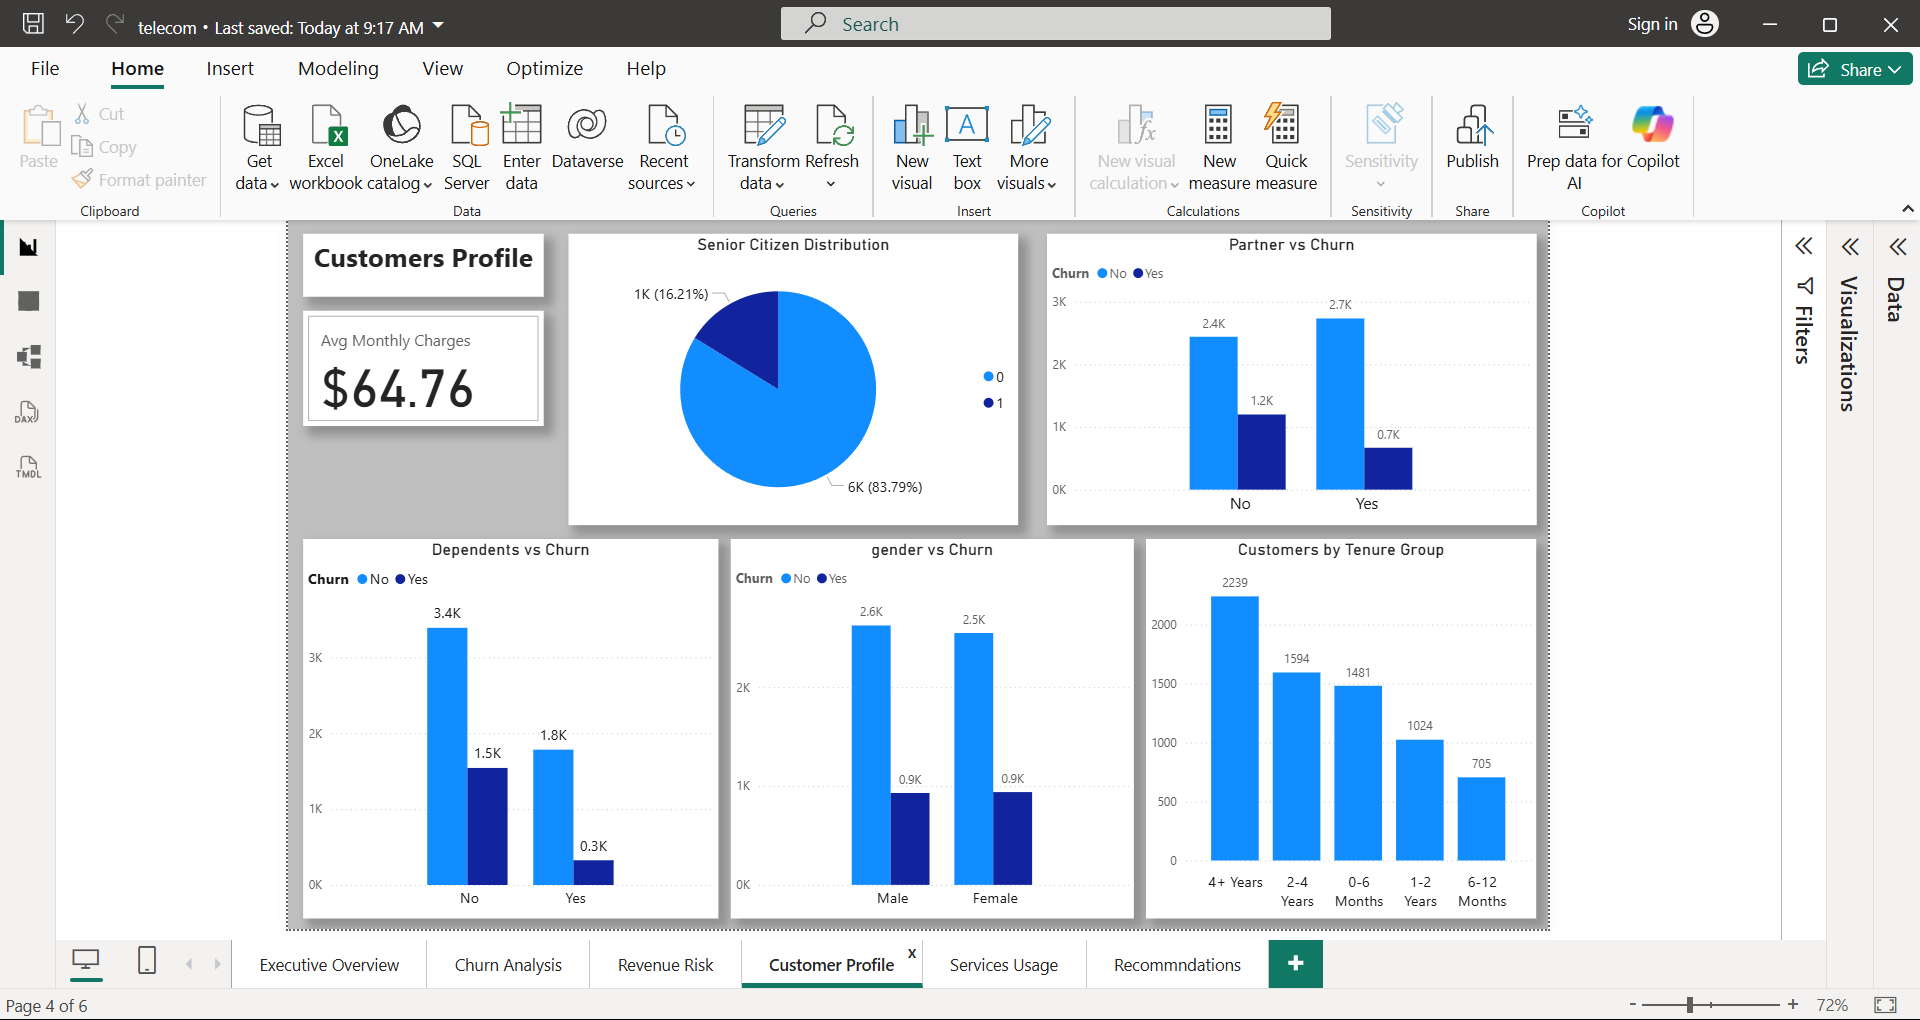

What the dashboard file says about the page in this screenshot:
{"tool":"powerbi","page":{"name":"Customer Profile","canvas":[1280,720],"ordinal":3},"visuals":[{"type":"pieChart","title":" Senior Citizen Distribution","fields":{"Category":["Telco-Customer-Churn.SeniorCitizen"],"Y":["Measure_table.Total Customers"]},"box":[284.9,14,456.7,296.1],"z":0},{"type":"clusteredColumnChart","title":" Dependents vs Churn","fields":{"Category":["Telco-Customer-Churn.Dependents"],"Series":["Telco-Customer-Churn.Churn"],"Y":["Measure_table.Total Customers"]},"box":[15.4,324,421.8,385.5],"z":1000},{"type":"clusteredColumnChart","title":" Partner vs Churn","fields":{"Category":["Telco-Customer-Churn.Partner"],"Series":["Telco-Customer-Churn.Churn"],"Y":["Measure_table.Total Customers"]},"box":[770.9,14,497.2,296.1],"z":2000},{"type":"clusteredColumnChart","title":" gender vs Churn","fields":{"Category":["Telco-Customer-Churn.gender"],"Series":["Telco-Customer-Churn.Churn"],"Y":["Measure_table.Total Customers"]},"box":[449.7,324,409.2,385.5],"z":3000},{"type":"textbox","box":[15.4,14,244.4,64.2],"z":4000},{"type":"cardVisual","fields":{"Data":["Measure_table.Avg Monthly Charges"]},"box":[15.4,92.2,244.4,117.3],"z":5000},{"type":"clusteredColumnChart","title":" Customers by Tenure Group","fields":{"Category":["Telco-Customer-Churn.Tenure Group"],"Y":["Measure_table.Total Customers"]},"box":[871.5,324,396.6,385.5],"z":6000}]}

Visuals, with their boxes on the page's 1280x720 design canvas (x1, y1, x2, y2). These are canvas units, not pixel positions in the 1920x1020 screenshot, which may show the page scaled, cropped or inside an application window:
" Senior Citizen Distribution" pieChart: pyautogui.locateOnScreen(285, 14, 742, 310)
" Dependents vs Churn" clusteredColumnChart: pyautogui.locateOnScreen(15, 324, 437, 710)
" Partner vs Churn" clusteredColumnChart: pyautogui.locateOnScreen(771, 14, 1268, 310)
" gender vs Churn" clusteredColumnChart: pyautogui.locateOnScreen(450, 324, 859, 710)
textbox: pyautogui.locateOnScreen(15, 14, 260, 78)
cardVisual - Measure_table.Avg Monthly Charges: pyautogui.locateOnScreen(15, 92, 260, 210)
" Customers by Tenure Group" clusteredColumnChart: pyautogui.locateOnScreen(872, 324, 1268, 710)
